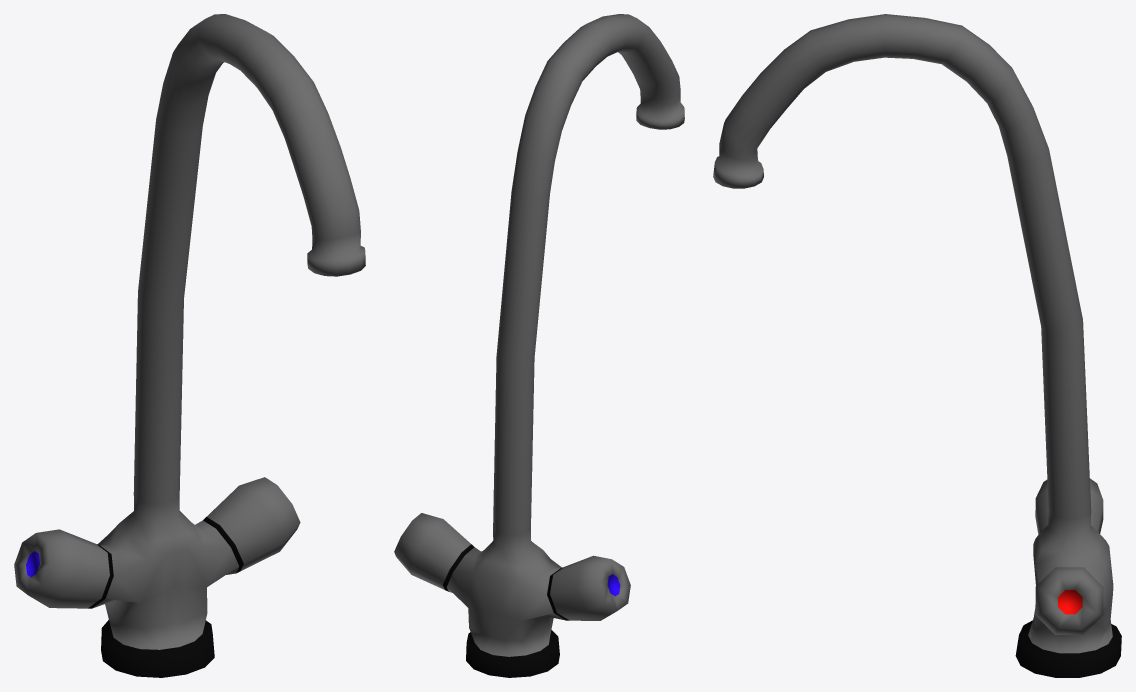
Rendered from muslukkFix.fbx.
3 views of the same model, side by side, from view 1: azimuth 30°, elevation 25°; view 2: azimuth 150°, elevation 25°; view 3: azimuth 270°, elevation 25° (orthographic). The views are drawn at different scales.
Parts seen in each view (by area): view 1: musluk, blue, red; view 2: musluk, blue, red; view 3: musluk, red, blue.
Part boxes in pixels (x1,y1,x2,y2): musluk: [92, 14, 365, 677]; blue: [14, 529, 113, 608]; red: [203, 477, 300, 573]; musluk: [447, 14, 684, 677]; blue: [547, 555, 630, 620]; red: [394, 513, 474, 591]; musluk: [713, 14, 1121, 677]; red: [1035, 567, 1103, 634]; blue: [1035, 478, 1103, 534].
Bounding box in the file's own units: 245 × 603 × 349.
1 material, 1 textured.
